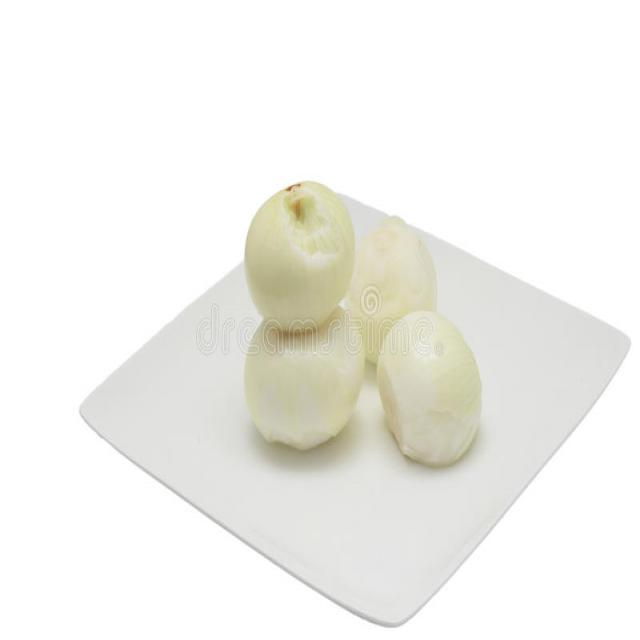onion: (241, 177, 359, 336), (242, 300, 365, 452), (377, 310, 487, 468), (349, 212, 443, 366)
